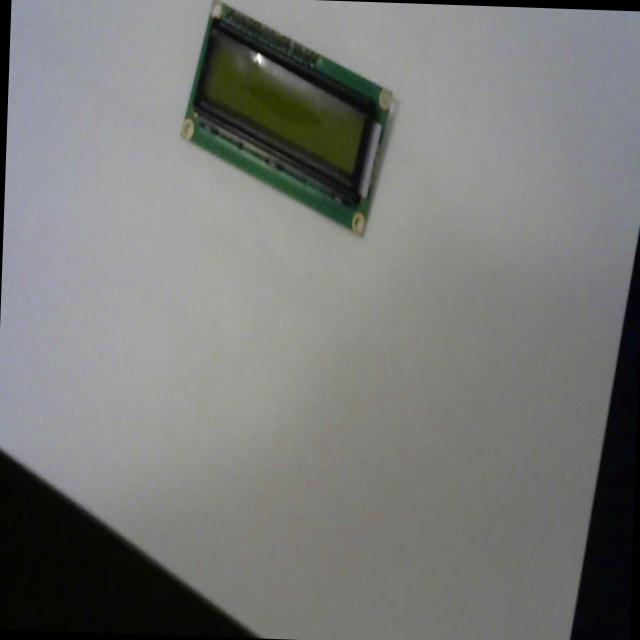lcd: (176, 0, 396, 239)
